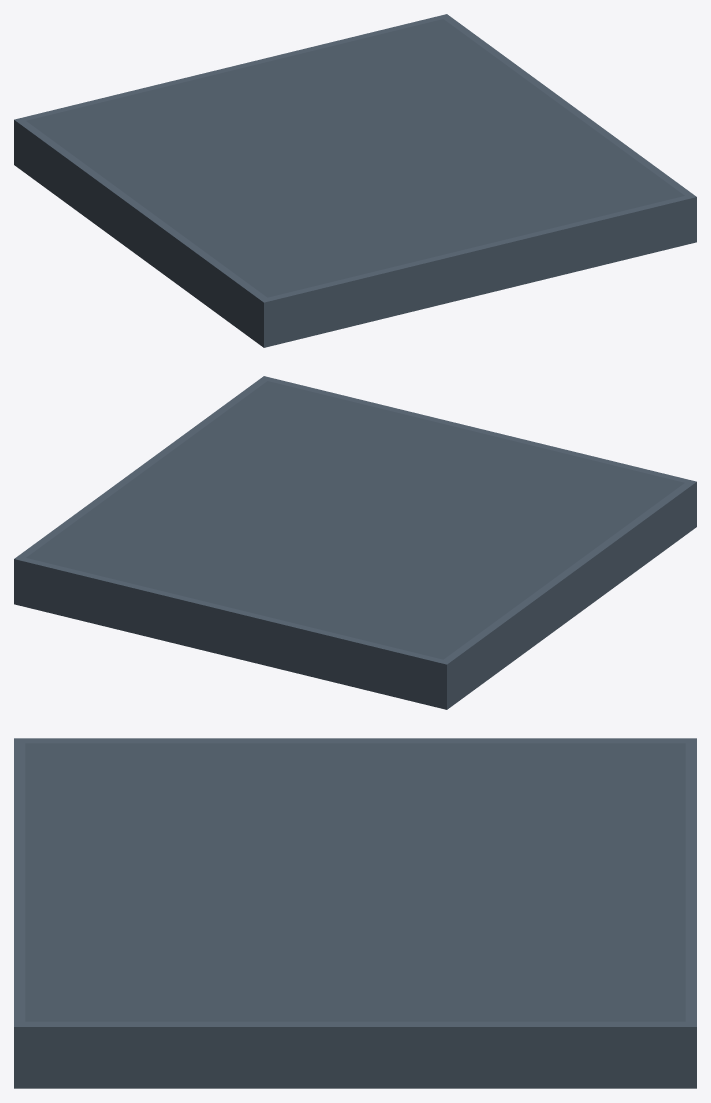
The model's file is ConcrateSlabs_C_2_1.fbx.
The picture shows the model from 3 angles, top to bottom: view 1: azimuth 30°, elevation 25°; view 2: azimuth 150°, elevation 25°; view 3: azimuth 270°, elevation 25°; orthographic projection. The views are drawn at different scales.
Visible parts, largest first — view 1: ConcrateSlabs_C_2_1; view 2: ConcrateSlabs_C_2_1; view 3: ConcrateSlabs_C_2_1.
Part boxes in pixels (left/top/right/bottom): ConcrateSlabs_C_2_1: left=14, top=14, right=696, bottom=347; ConcrateSlabs_C_2_1: left=14, top=376, right=696, bottom=709; ConcrateSlabs_C_2_1: left=14, top=738, right=696, bottom=1088.
Size of the model in its own units: 400 by 40 by 400.
